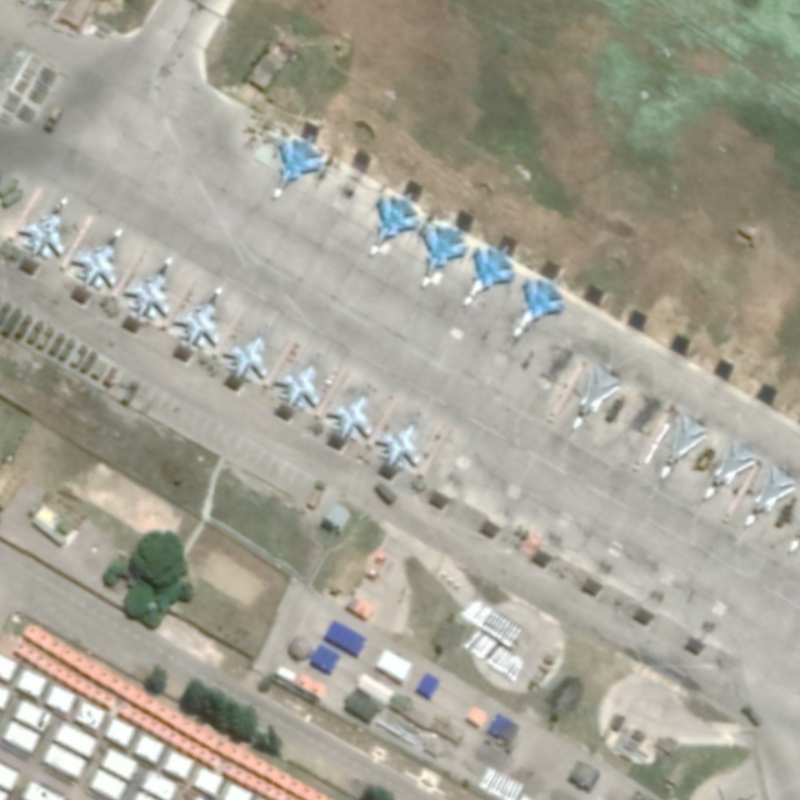A1: (374, 406, 428, 470), (325, 376, 378, 441), (218, 321, 272, 378), (272, 349, 322, 410)
A19: (269, 133, 331, 204), (364, 188, 421, 261), (120, 250, 175, 325), (460, 241, 518, 311), (510, 272, 567, 343), (14, 193, 72, 261), (70, 222, 126, 291), (416, 213, 466, 290), (172, 279, 223, 348)
A20: (652, 405, 711, 484), (567, 359, 624, 434), (700, 436, 759, 505), (741, 463, 797, 529)
